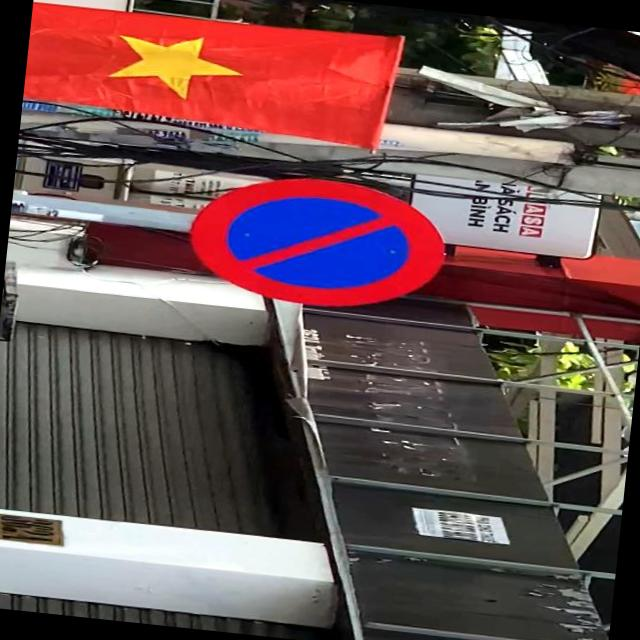P-131a: (180, 168, 450, 316)
